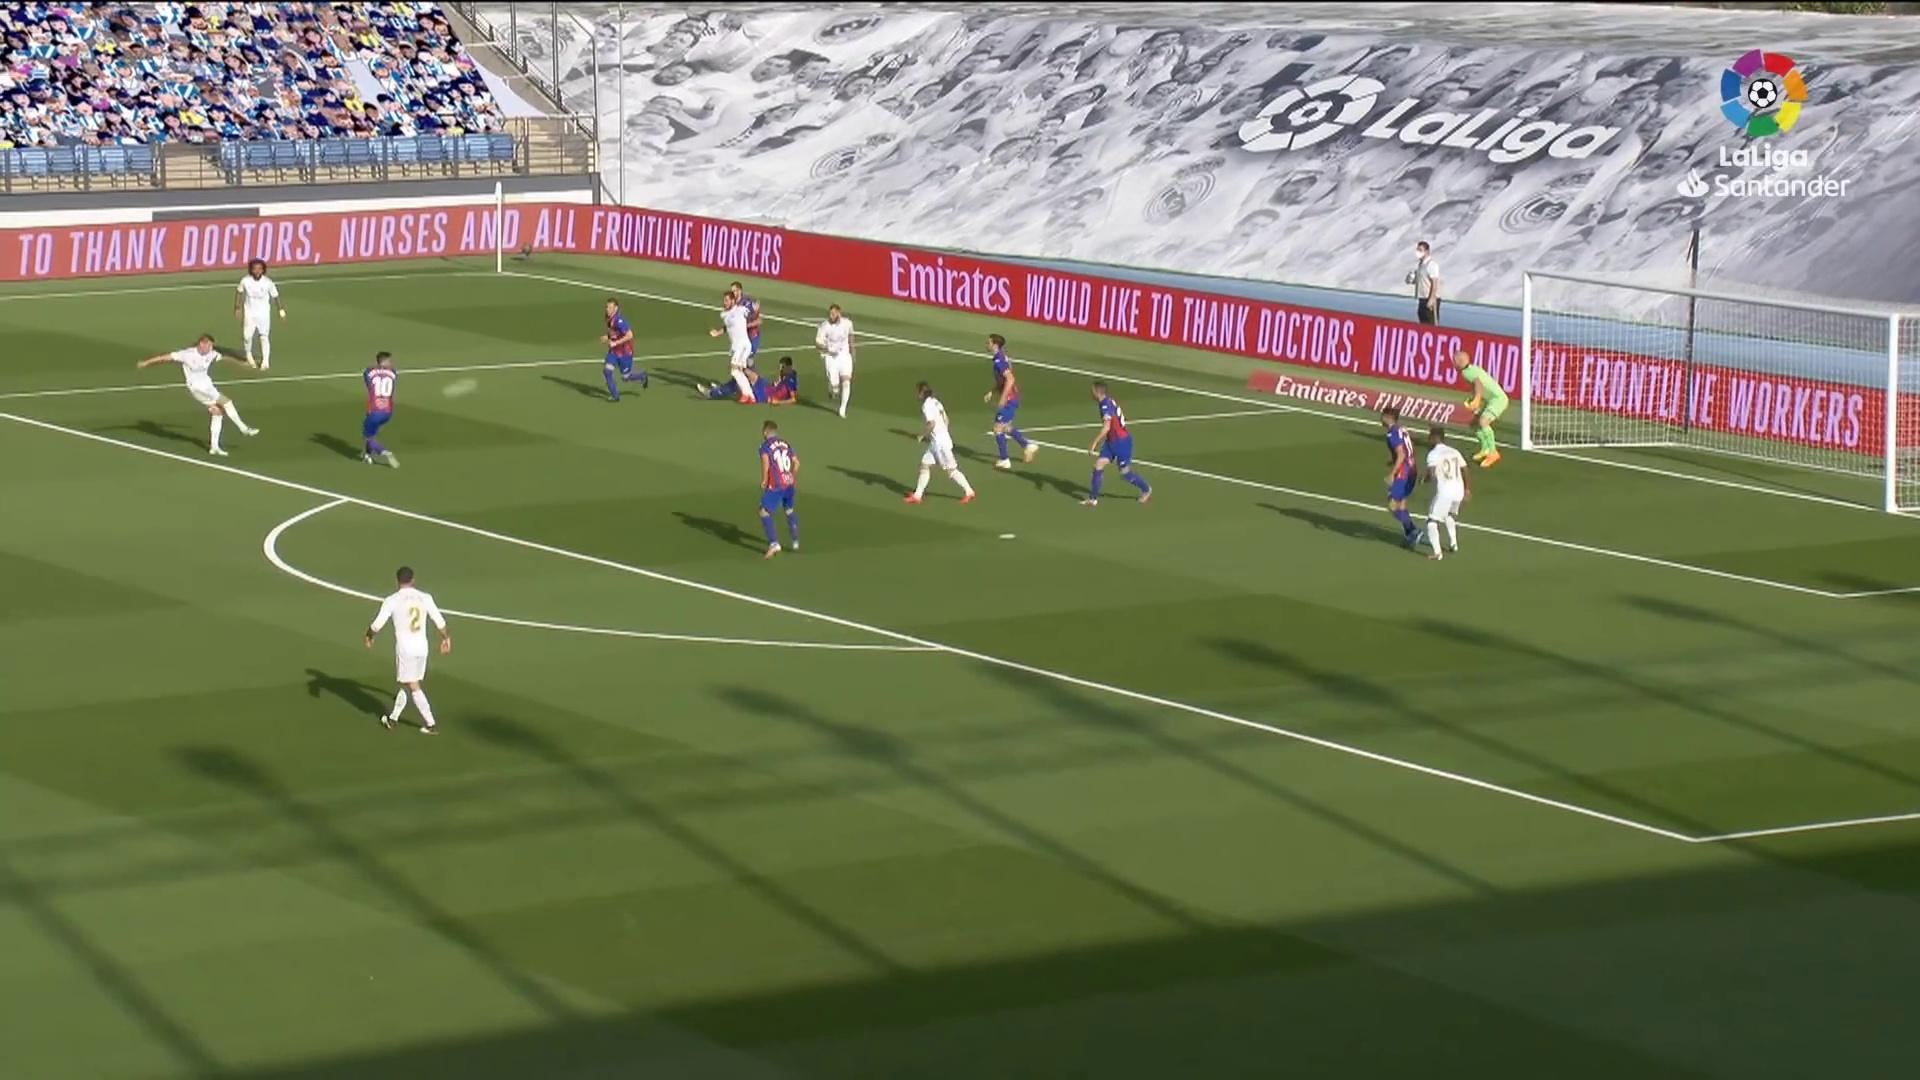ball: (440, 373, 482, 405)
goalkeeper: (1449, 347, 1511, 469)
player: (136, 332, 266, 458), (364, 562, 452, 738), (1077, 378, 1154, 508), (902, 378, 979, 507), (980, 333, 1040, 472), (1417, 421, 1475, 563), (754, 418, 802, 562), (1375, 406, 1423, 549), (234, 256, 287, 371), (709, 282, 761, 399), (597, 296, 651, 405), (695, 354, 802, 409), (814, 303, 860, 421), (360, 349, 403, 471), (720, 289, 761, 405)
